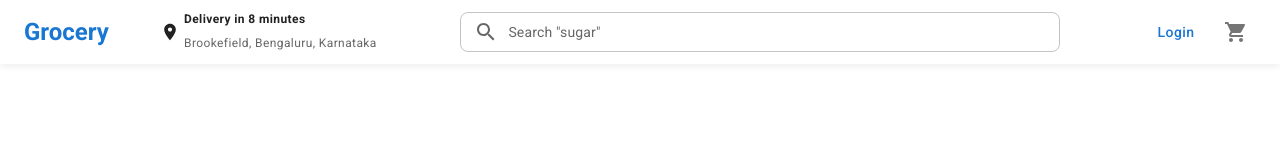
Header Component › clears suggestions when search query is empty
Type "mil" into the field at (783, 32), box [506,12,1060,52]
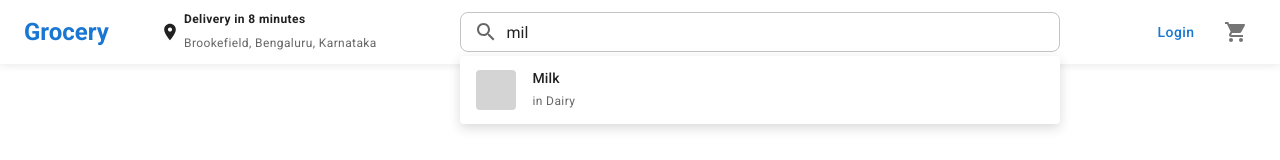
Expected: the text "Milk" is shown, [532,70,560,86]
Clear the field at (783, 32), box [506,12,1060,52]
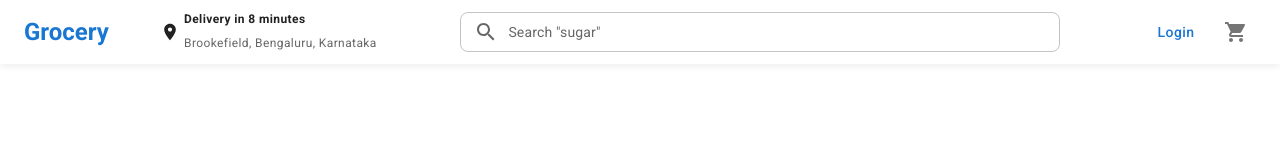
Expected: the button "Milk" is gone
